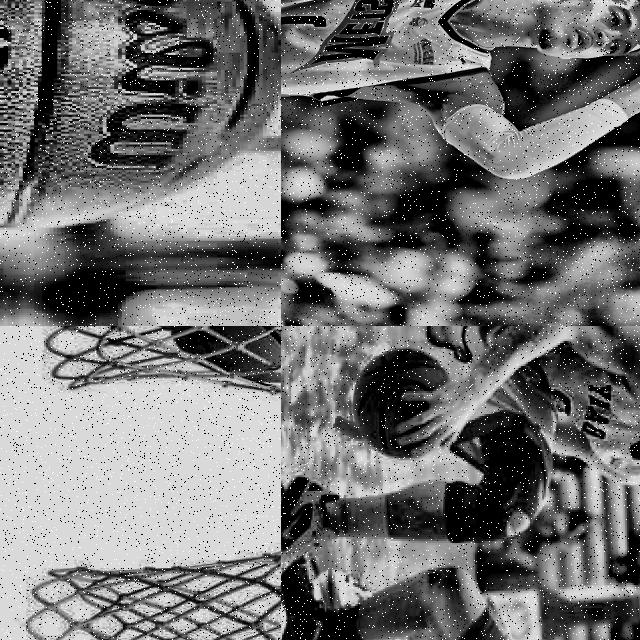Basketball: (355, 347, 446, 458), (173, 326, 281, 382)
